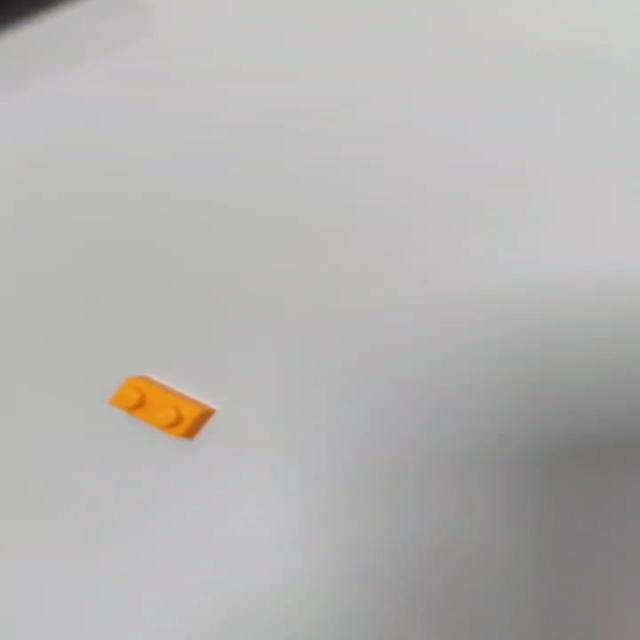C2x1x0: (102, 373, 218, 443)
